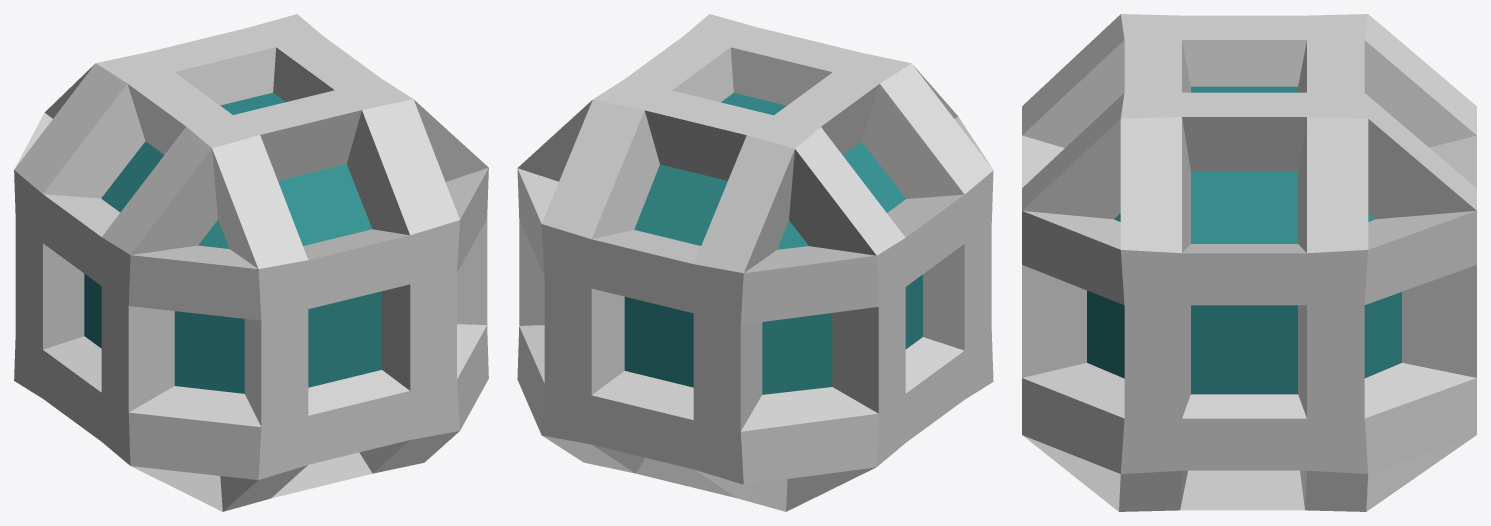
Rendered from EnergyCube.fbx.
The picture shows the model from 3 angles, left to right: view 1: azimuth 30°, elevation 25°; view 2: azimuth 150°, elevation 25°; view 3: azimuth 270°, elevation 25°; orthographic projection. The views are drawn at different scales.
Parts seen in each view (by area): view 1: EnergyCube; view 2: EnergyCube; view 3: EnergyCube.
Part boxes in pixels (x1,y1,x2,y2): EnergyCube: (14,14,488,511); EnergyCube: (517,14,993,511); EnergyCube: (1022,14,1476,511).
Bounding box in the file's own units: 0.4008 × 0.3904 × 0.4144.
